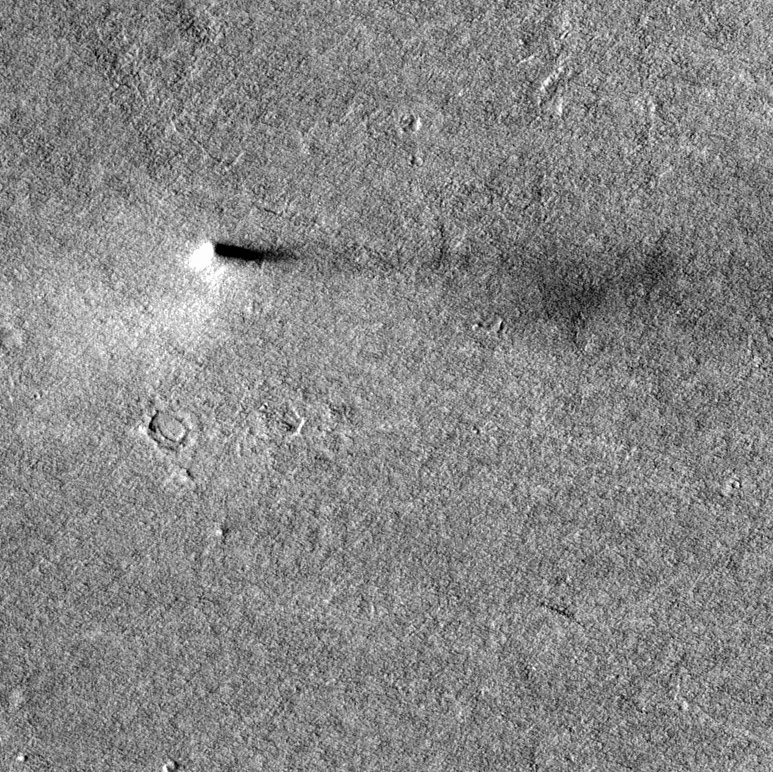dust_devil: (187, 238, 304, 273)
